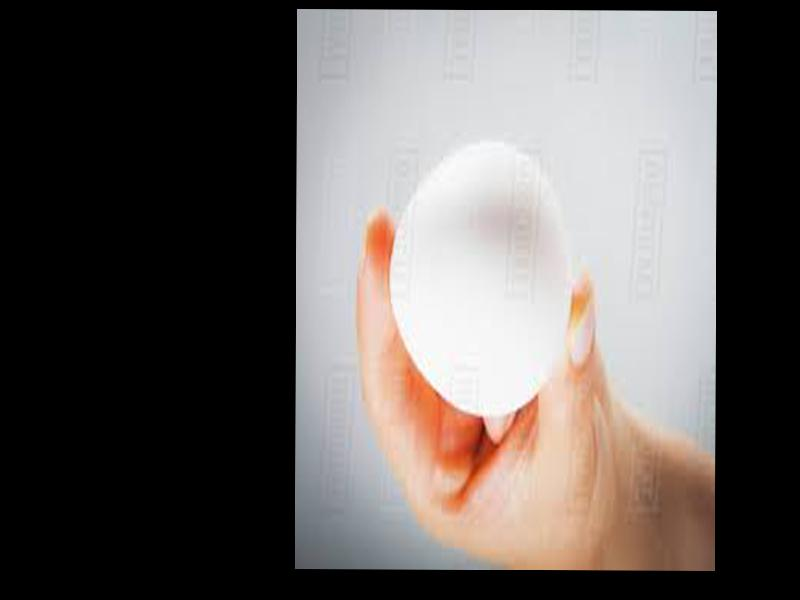Eggs: (387, 144, 571, 405)
